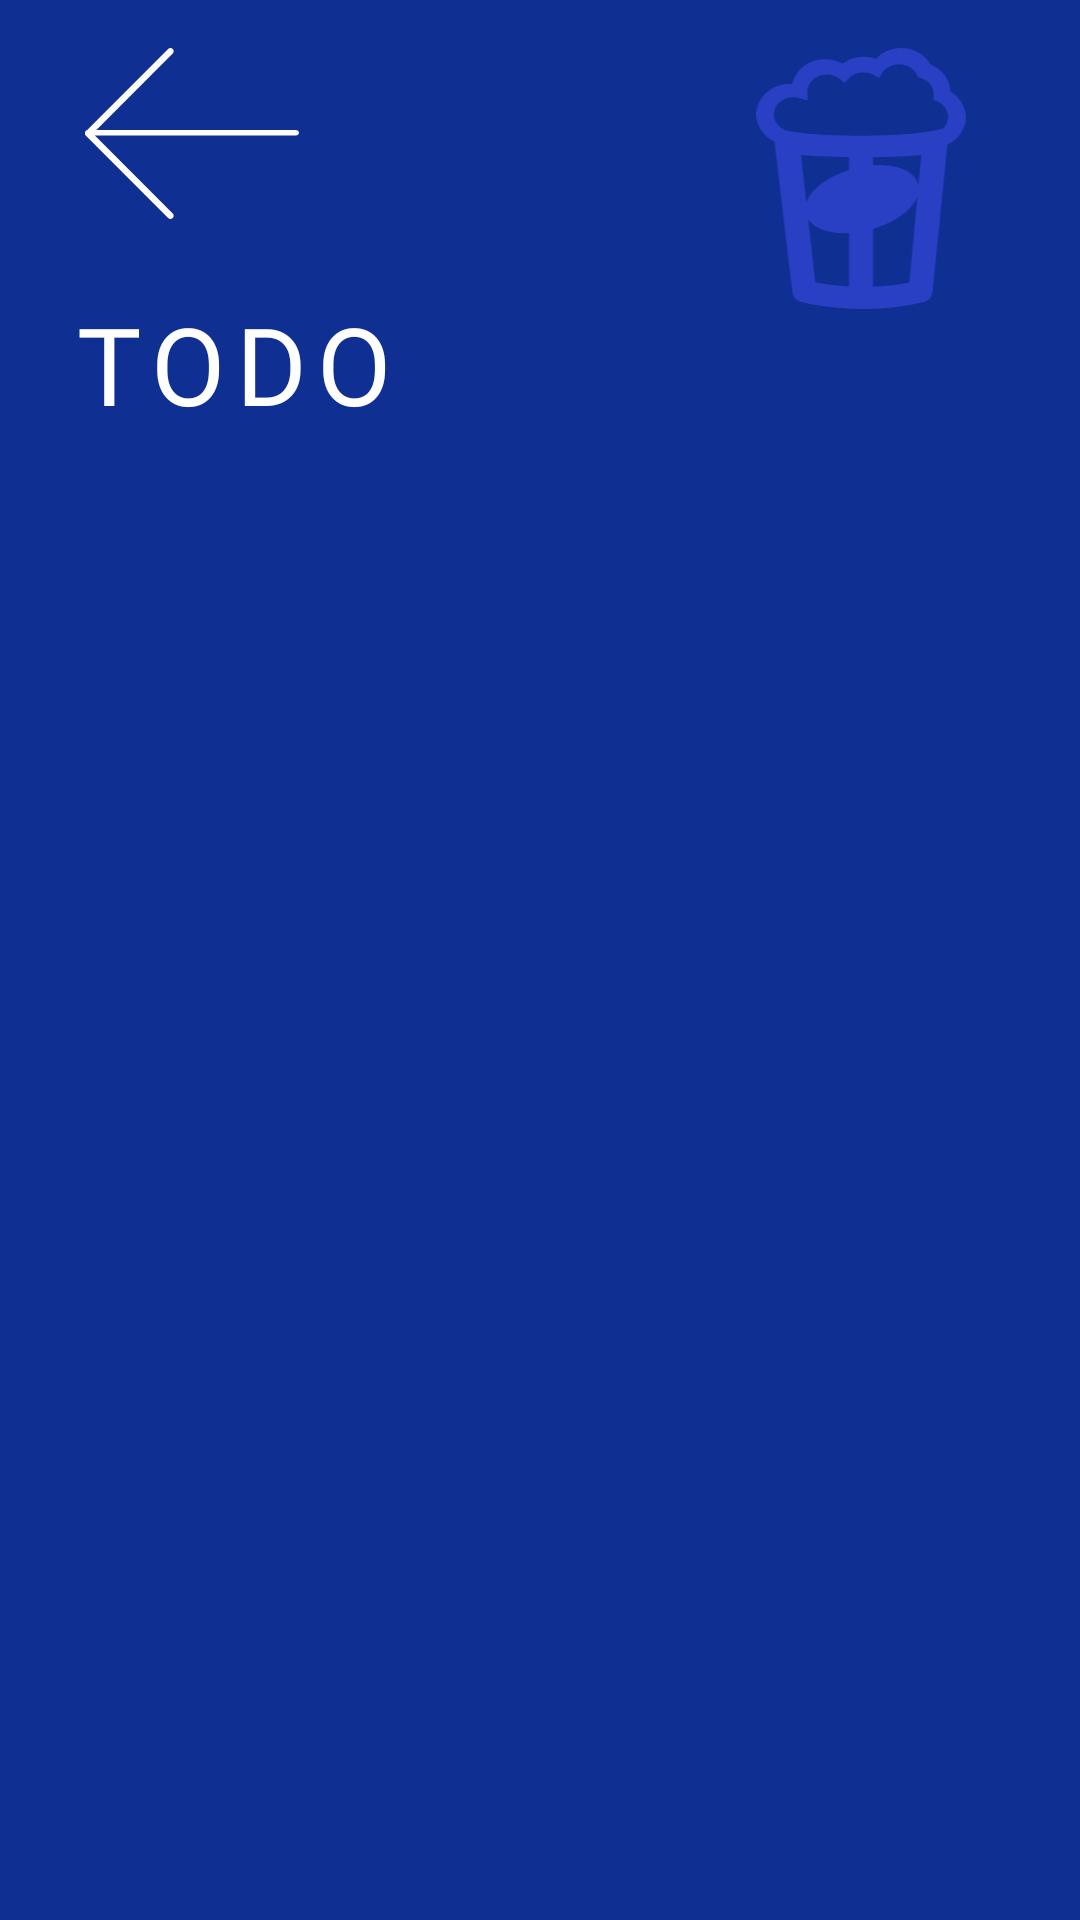

Screen size 1080 × 1920. Icon name, then its center in pixels as [x,y]:
back: [192,133]
